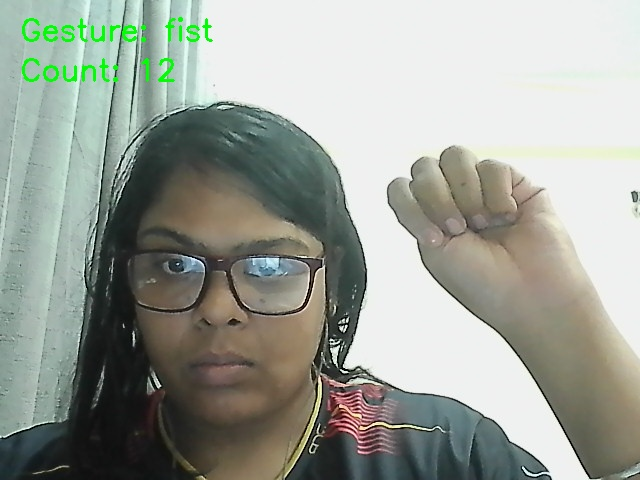fist: (375, 123, 627, 332)
